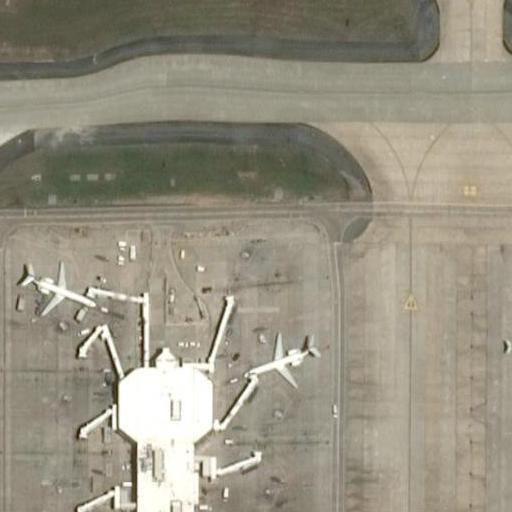Aircraft: (14, 256, 106, 325), (242, 327, 334, 393), (495, 319, 512, 375)
